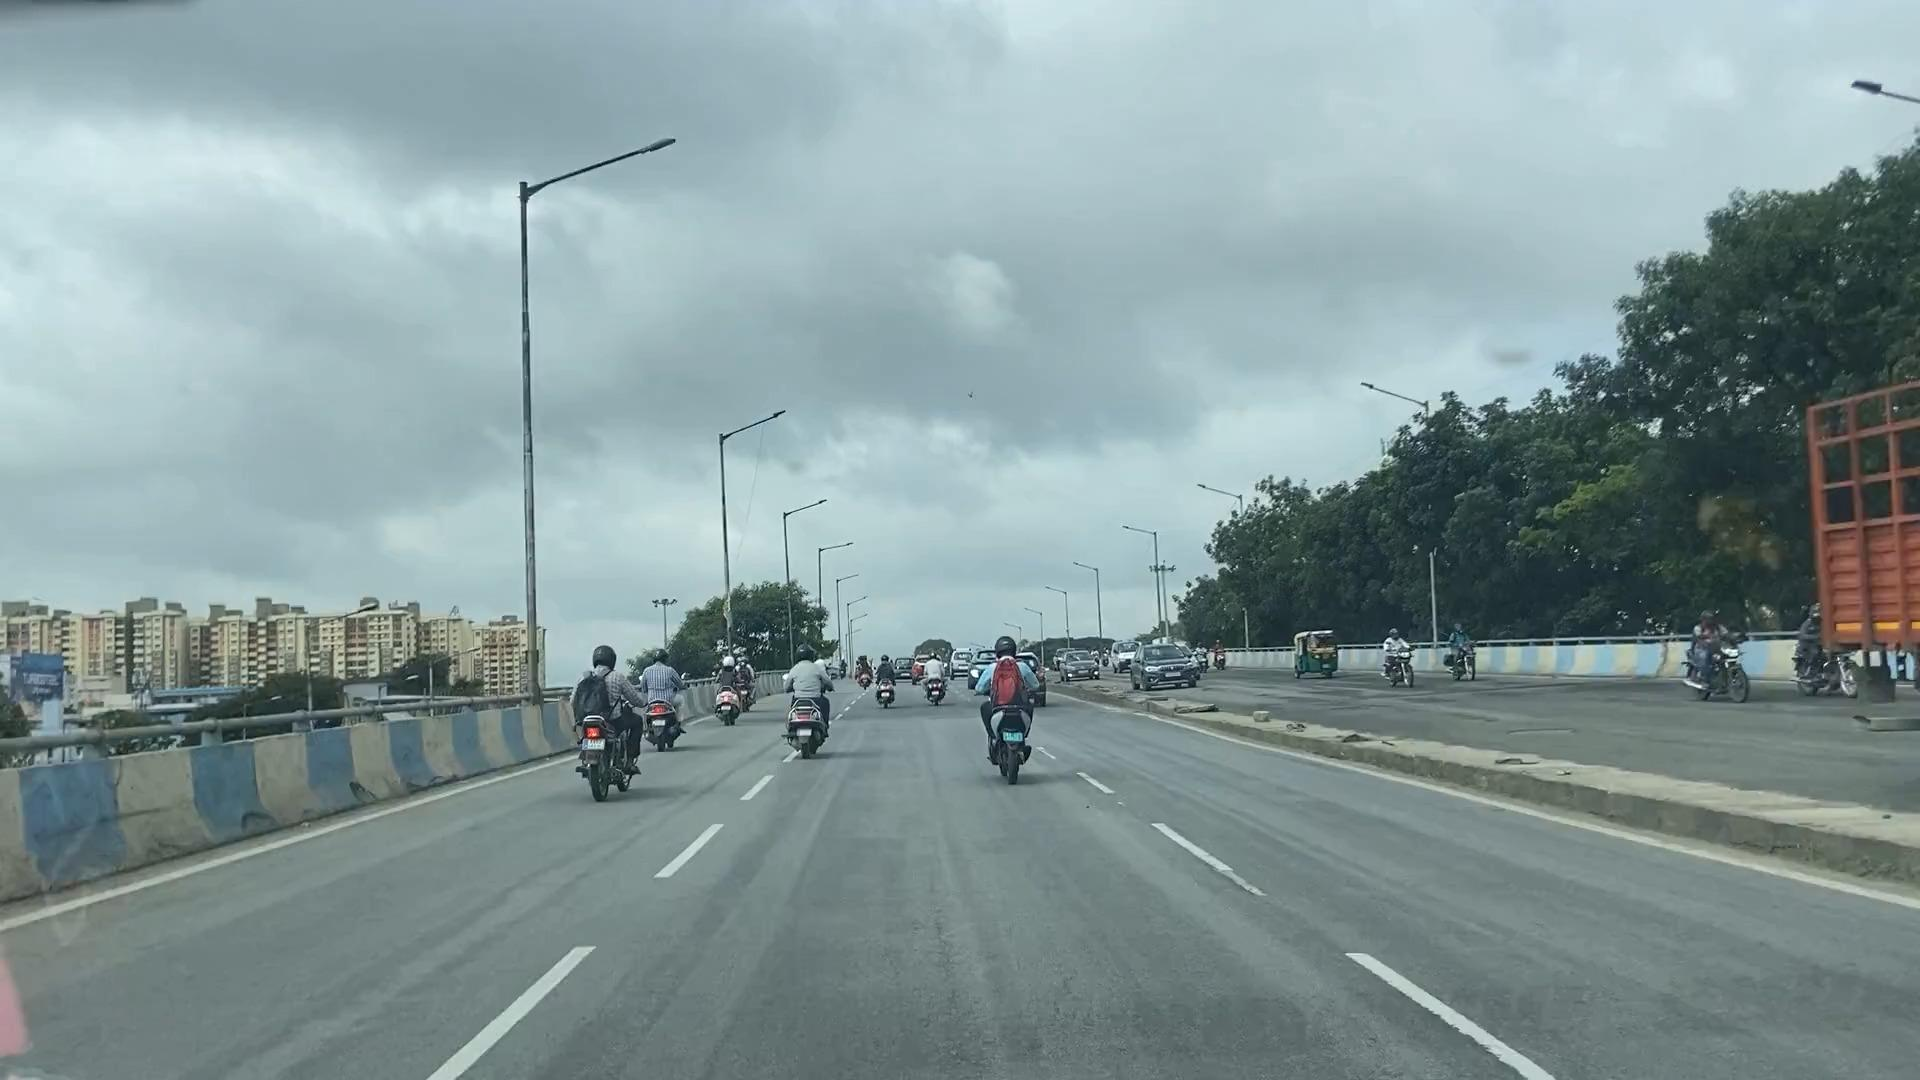LMV: (578, 646, 642, 804), (985, 632, 1036, 796), (785, 646, 828, 764), (650, 650, 687, 746), (716, 642, 752, 729)
